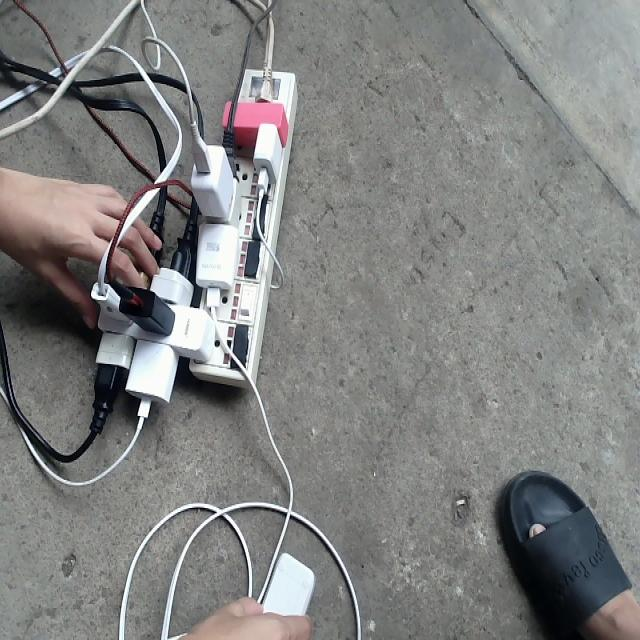-: (82, 62, 299, 406)
